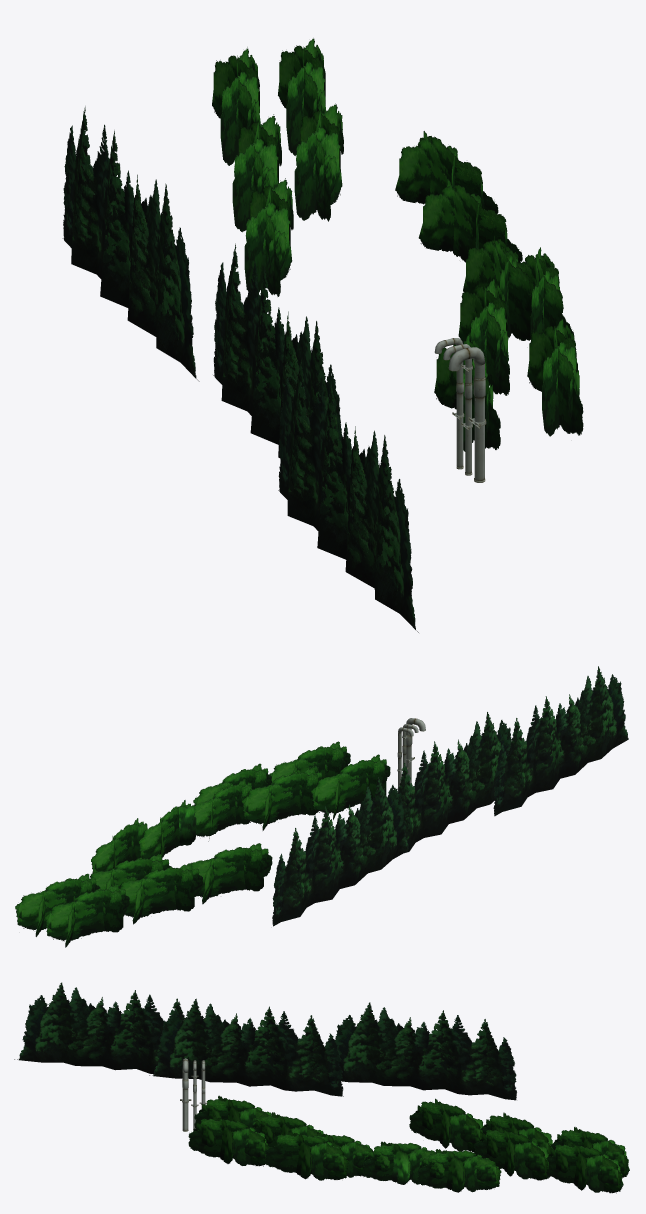
3 views of the same model, one above another, from view 1: azimuth 30°, elevation 25°; view 2: azimuth 150°, elevation 25°; view 3: azimuth 270°, elevation 25° (orthographic). The views are drawn at different scales.
Parts seen in each view (by area): view 1: sa00zkic03_001, ki006_02_001, sa00zobj106_001; view 2: sa00zkic03_001, ki006_02_001, sa00zobj106_001; view 3: sa00zkic03_001, ki006_02_001, sa00zobj106_001.
Part boxes in pixels (x1=…): sa00zkic03_001: x1=62, y1=106, x2=418, y2=632; ki006_02_001: x1=212, y1=38, x2=583, y2=451; sa00zobj106_001: x1=434, y1=338, x2=486, y2=482; sa00zkic03_001: x1=272, y1=666, x2=628, y2=926; ki006_02_001: x1=15, y1=741, x2=390, y2=947; sa00zobj106_001: x1=397, y1=718, x2=425, y2=791; sa00zkic03_001: x1=14, y1=982, x2=516, y2=1100; ki006_02_001: x1=188, y1=1095, x2=629, y2=1193; sa00zobj106_001: x1=180, y1=1058, x2=206, y2=1131.
Size of the model in its own units: 94.92 by 36.43 by 200.
3 materials, 3 textured.
